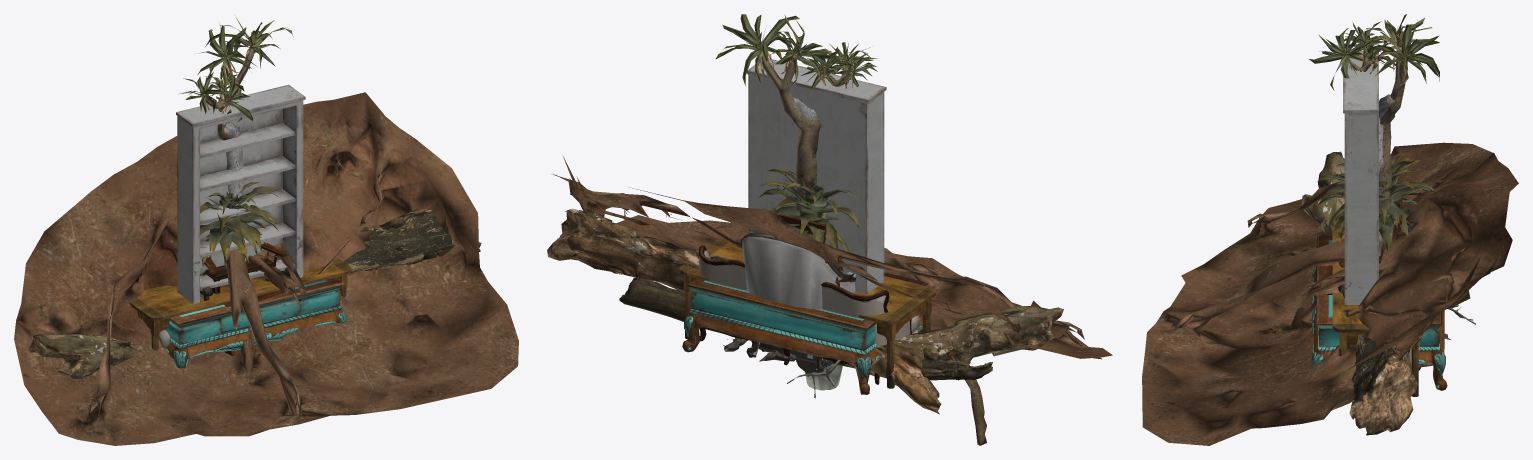
File: phaven.glb
3 views of the same model, side by side, from view 1: azimuth 30°, elevation 25°; view 2: azimuth 150°, elevation 25°; view 3: azimuth 270°, elevation 25° (orthographic). The views are drawn at different scales.
Parts seen in each view (by area): view 1: root_cluster_01_0, Shelf_01_0, dead_tree_trunk_02_0, CoffeeTable_01_0, WoodenTable_01_0, quiver_tree_01_1, quiver_tree_02_0, dead_quiver_trunk_LOD0_0, Rockingchair_01_0, quiver_tree_01_0; view 2: Shelf_01_0, dead_tree_trunk_02_0, root_cluster_01_0, CoffeeTable_01_0, ArmChair_01_0, quiver_tree_01_1, WoodenTable_01_0, Sofa_01_0, dead_tree_trunk_0, quiver_tree_02_0, quiver_tree_01_0, security_light_glass_0; view 3: root_cluster_01_0, Shelf_01_0, dead_tree_trunk_02_0, quiver_tree_01_1, CoffeeTable_01_0, quiver_tree_02_0, WoodenTable_01_0, quiver_tree_01_0, dead_quiver_trunk_LOD0_0.
Boxes of the visible parts, x1=… form: root_cluster_01_0: x1=14, y1=92, x2=518, y2=445; Shelf_01_0: x1=176, y1=84, x2=305, y2=303; dead_tree_trunk_02_0: x1=28, y1=205, x2=481, y2=378; CoffeeTable_01_0: x1=165, y1=277, x2=346, y2=368; WoodenTable_01_0: x1=129, y1=257, x2=351, y2=350; quiver_tree_01_1: x1=178, y1=17, x2=293, y2=122; quiver_tree_02_0: x1=170, y1=182, x2=280, y2=269; dead_quiver_trunk_LOD0_0: x1=223, y1=121, x2=246, y2=261; Rockingchair_01_0: x1=201, y1=243, x2=289, y2=355; quiver_tree_01_0: x1=203, y1=45, x2=254, y2=154; Shelf_01_0: x1=747, y1=58, x2=886, y2=293; dead_tree_trunk_02_0: x1=547, y1=208, x2=1063, y2=445; root_cluster_01_0: x1=551, y1=156, x2=1112, y2=359; CoffeeTable_01_0: x1=682, y1=272, x2=931, y2=394; ArmChair_01_0: x1=740, y1=232, x2=856, y2=372; quiver_tree_01_1: x1=715, y1=14, x2=877, y2=88; WoodenTable_01_0: x1=679, y1=238, x2=935, y2=388; Sofa_01_0: x1=698, y1=245, x2=919, y2=384; dead_tree_trunk_0: x1=619, y1=277, x2=992, y2=380; quiver_tree_02_0: x1=759, y1=169, x2=859, y2=262; quiver_tree_01_0: x1=762, y1=54, x2=852, y2=216; security_light_glass_0: x1=804, y1=365, x2=842, y2=390; root_cluster_01_0: x1=1142, y1=142, x2=1518, y2=445; Shelf_01_0: x1=1343, y1=50, x2=1378, y2=304; dead_tree_trunk_02_0: x1=1301, y1=151, x2=1417, y2=435; quiver_tree_01_1: x1=1309, y1=14, x2=1439, y2=90; CoffeeTable_01_0: x1=1312, y1=236, x2=1447, y2=390; quiver_tree_02_0: x1=1317, y1=154, x2=1435, y2=250; WoodenTable_01_0: x1=1332, y1=224, x2=1418, y2=396; quiver_tree_01_0: x1=1346, y1=46, x2=1405, y2=255; dead_quiver_trunk_LOD0_0: x1=1379, y1=94, x2=1395, y2=255.
Bounding box in the file's own units: 4.19 × 3 × 2.68.
Materials: 28 (28 with a texture image).
